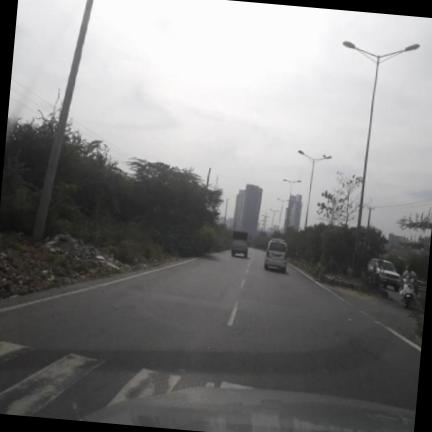Road: (0, 250, 420, 418)
